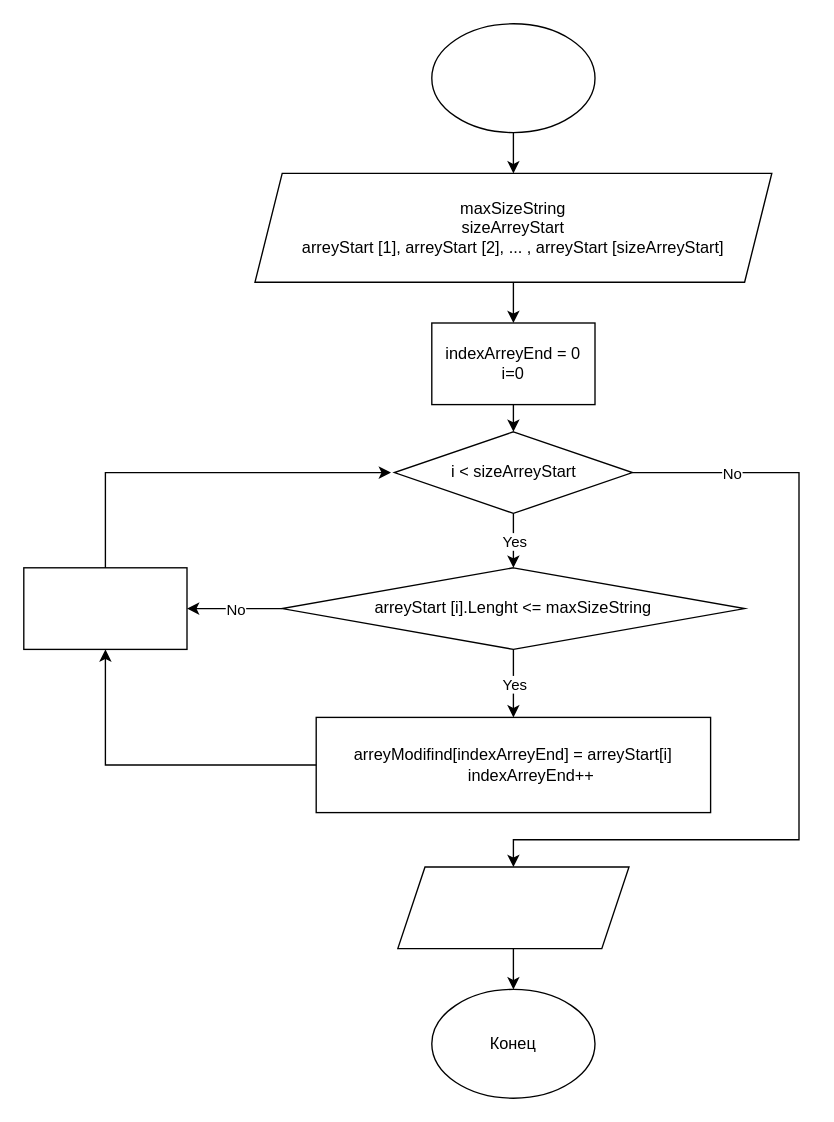
Image size: 834x1122. Some labels were removed from this diagram. Each missing label, with the box of its shape:
index1++: (22, 566, 187, 649)
print arreyModifind: (396, 866, 629, 949)
Начало: (430, 22, 595, 133)
